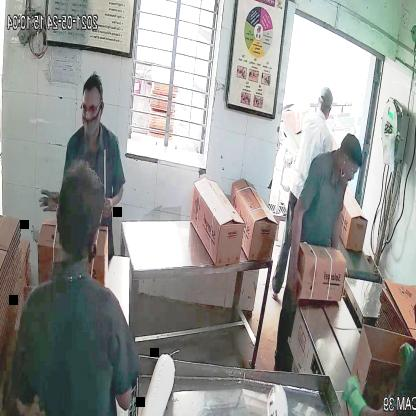goggles: (81, 98, 105, 120)
